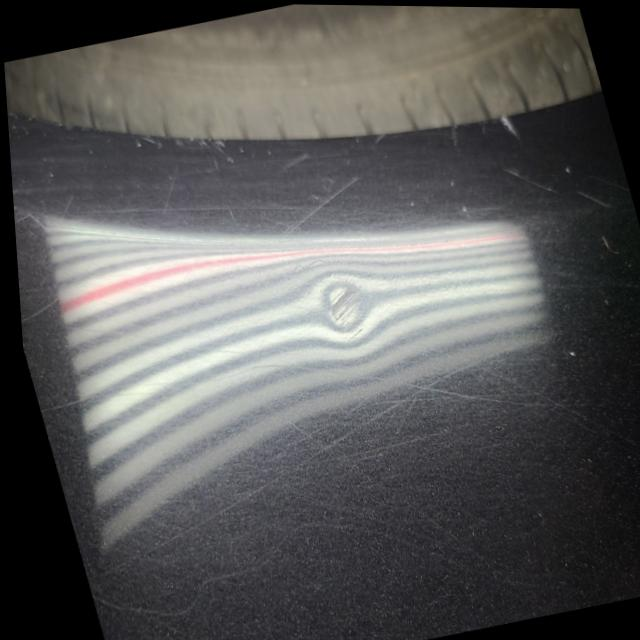PDR-Dent: (305, 257, 387, 351)
